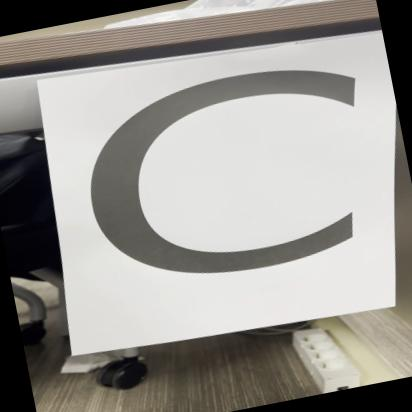seat: (42, 18, 412, 365)
